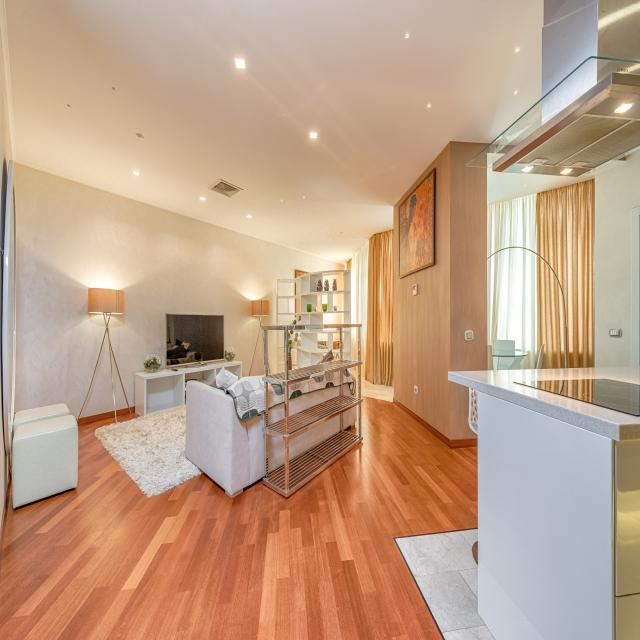floor: (0, 395, 478, 640)
wall: (14, 162, 347, 419), (393, 141, 451, 439), (595, 149, 640, 367), (450, 141, 490, 371), (79, 330, 114, 418), (0, 34, 13, 249), (110, 343, 129, 410), (249, 326, 264, 376), (268, 330, 278, 375), (322, 275, 344, 291), (323, 313, 344, 325), (278, 283, 295, 296), (278, 314, 296, 325), (333, 294, 344, 311), (278, 299, 288, 313), (321, 295, 328, 312), (317, 333, 328, 342), (291, 349, 297, 365), (278, 349, 284, 364), (278, 332, 284, 347), (289, 298, 295, 313), (333, 333, 340, 342), (262, 333, 264, 362), (279, 366, 284, 373), (268, 364, 270, 375), (262, 330, 264, 340)
